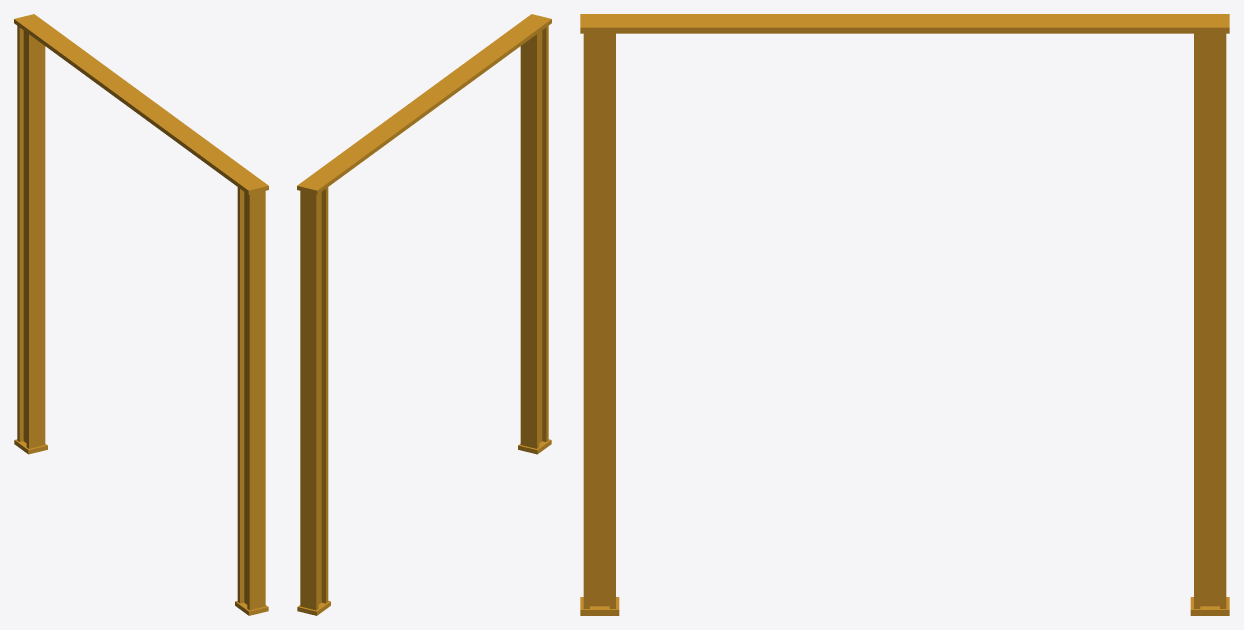
The model's file is Catwalk_Support_2m.fbx.
3 views of the same model, side by side, from view 1: azimuth 30°, elevation 25°; view 2: azimuth 150°, elevation 25°; view 3: azimuth 270°, elevation 25° (orthographic). The views are drawn at different scales.
Visible parts, largest first — view 1: Catwalk_Support_2m; view 2: Catwalk_Support_2m; view 3: Catwalk_Support_2m.
Boxes of the visible parts, x1,y1,x2,y2 form: Catwalk_Support_2m: (14, 14, 268, 615); Catwalk_Support_2m: (297, 14, 551, 615); Catwalk_Support_2m: (580, 14, 1229, 615).
Size of the model in its own units: 10 by 200 by 200.
